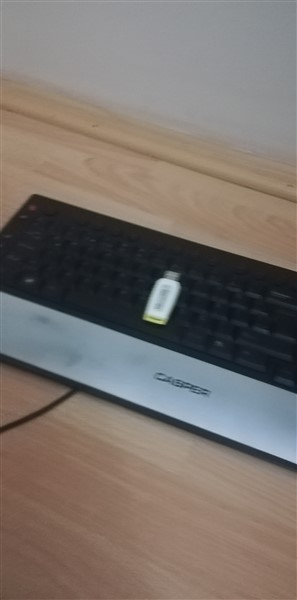flash disk: (144, 262, 184, 328)
klavye: (1, 193, 297, 473)
